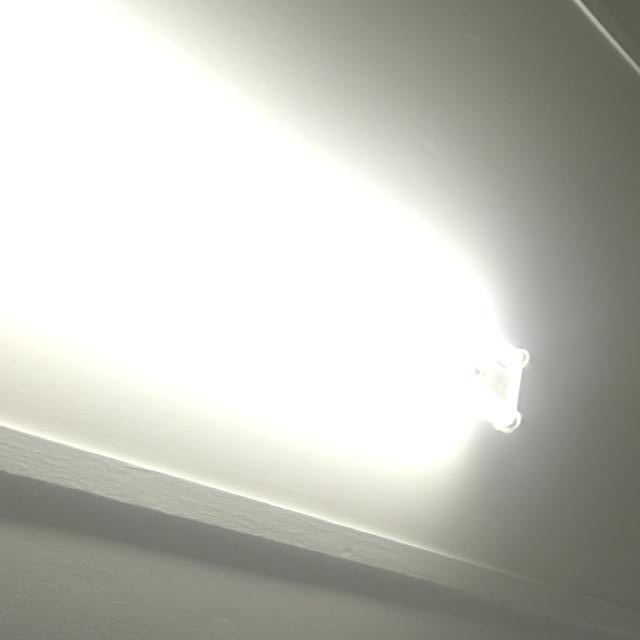fluorescent tube: (0, 0, 548, 506)
